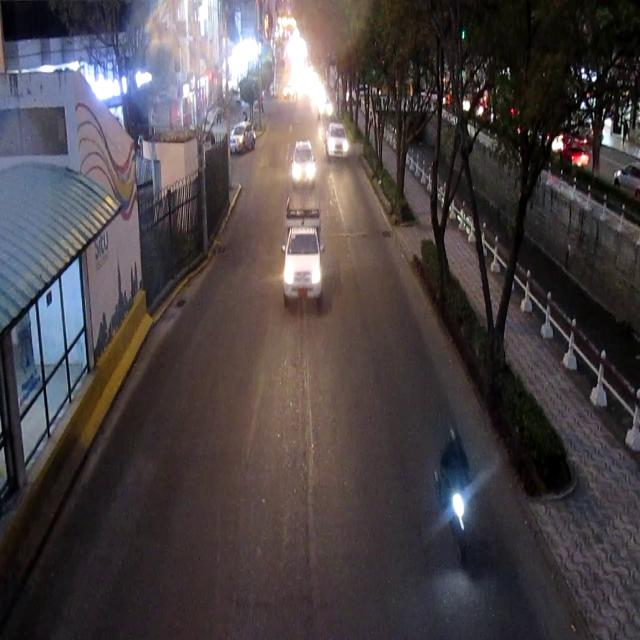CMT: (283, 194, 322, 302)
MOTORCYCLE: (433, 428, 470, 565)
SUV: (232, 124, 256, 154)
